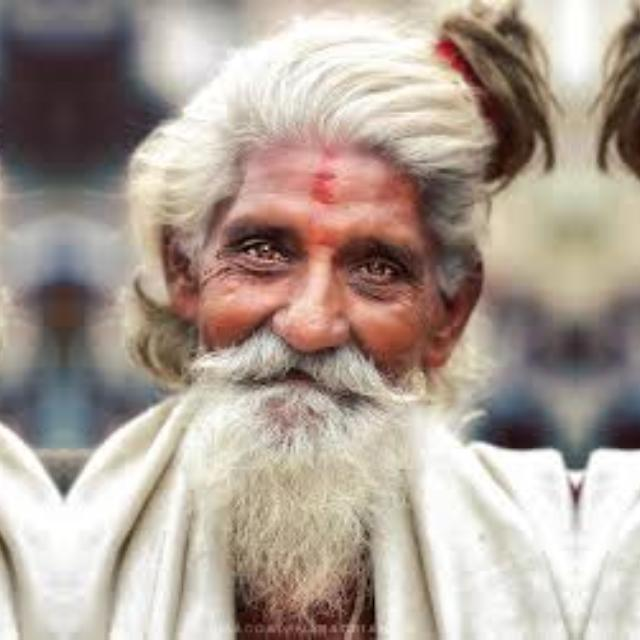person: (64, 5, 576, 640), (576, 4, 640, 639), (0, 4, 62, 639)
